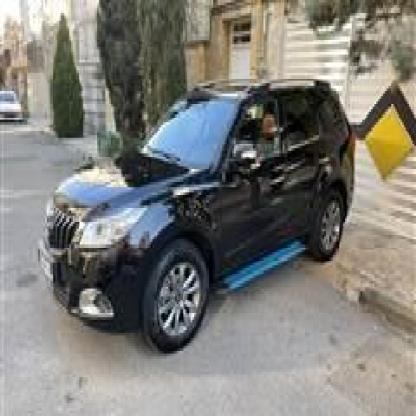Car: (33, 68, 360, 338), (0, 75, 19, 130)
